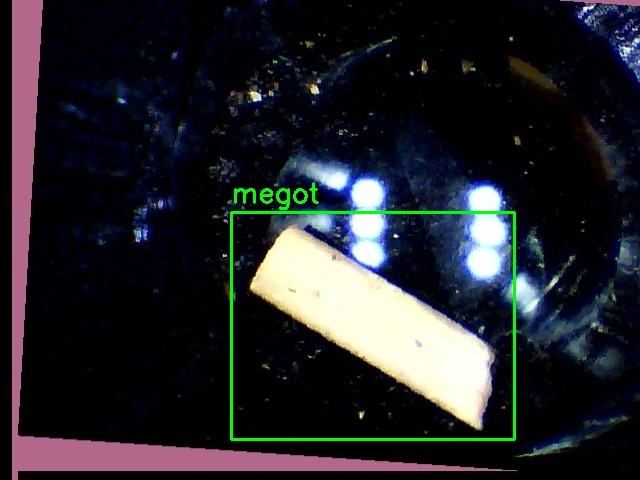megot: (231, 212, 514, 439)
